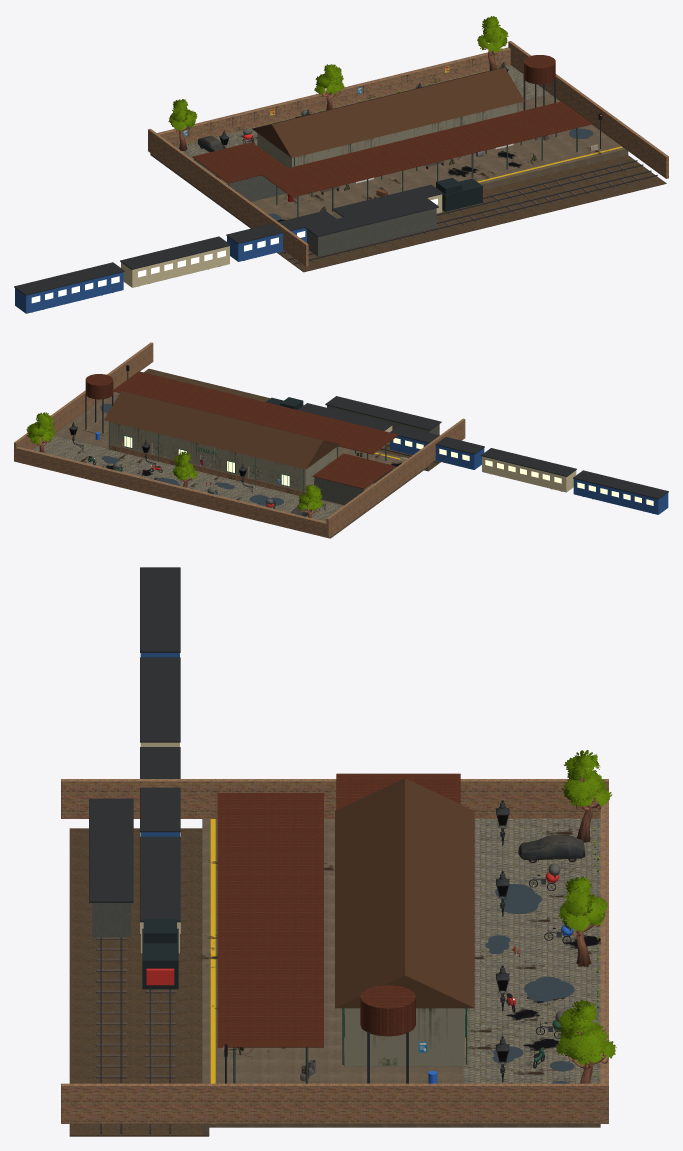
File: stasiun.glb
The picture shows the model from 3 angles, top to bottom: view 1: azimuth 30°, elevation 25°; view 2: azimuth 150°, elevation 25°; view 3: azimuth 270°, elevation 25°; orthographic projection. The views are drawn at different scales.
Parts seen in each view (by area): view 1: statis, kereta, CommonTree_2.001, CommonTree_2.002, CommonTree_2; view 2: statis, kereta, CommonTree_2.001, CommonTree_2, CommonTree_2.002; view 3: statis, kereta, CommonTree_2.001, CommonTree_2, CommonTree_2.002.
Part boxes in pixels (x1=…): statis: x1=148, y1=41, x2=668, y2=272; kereta: x1=14, y1=178, x2=483, y2=313; CommonTree_2.001: x1=477, y1=16, x2=508, y2=70; CommonTree_2.002: x1=314, y1=64, x2=344, y2=110; CommonTree_2: x1=168, y1=99, x2=197, y2=151; statis: x1=14, y1=342, x2=465, y2=538; kereta: x1=265, y1=397, x2=668, y2=514; CommonTree_2.001: x1=26, y1=412, x2=56, y2=452; CommonTree_2: x1=297, y1=484, x2=323, y2=518; CommonTree_2.002: x1=172, y1=451, x2=197, y2=487; statis: x1=61, y1=773, x2=608, y2=1136; kereta: x1=140, y1=567, x2=180, y2=989; CommonTree_2.001: x1=555, y1=999, x2=616, y2=1083; CommonTree_2: x1=562, y1=750, x2=612, y2=842; CommonTree_2.002: x1=558, y1=876, x2=607, y2=966.
Size of the model in its own units: 88.9 by 9 by 40.13.
73 materials, 56 textured.
